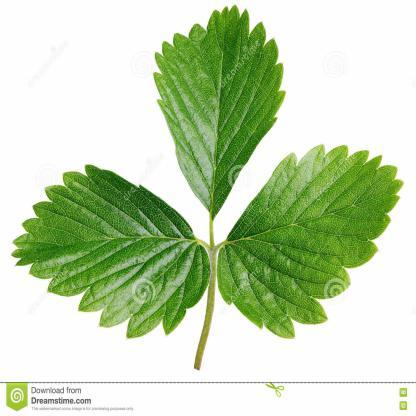Strawberry leaf: (213, 142, 410, 352), (8, 157, 209, 336), (151, 3, 287, 214)
